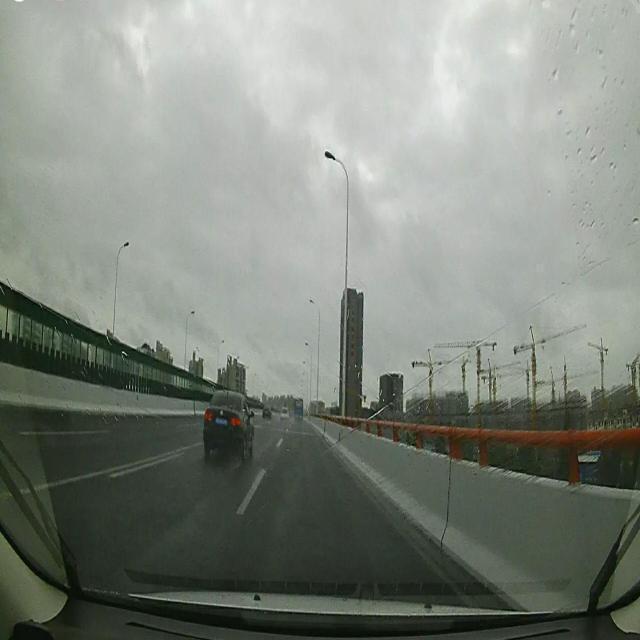car: (202, 388, 254, 466), (280, 404, 288, 420), (262, 404, 271, 418)
